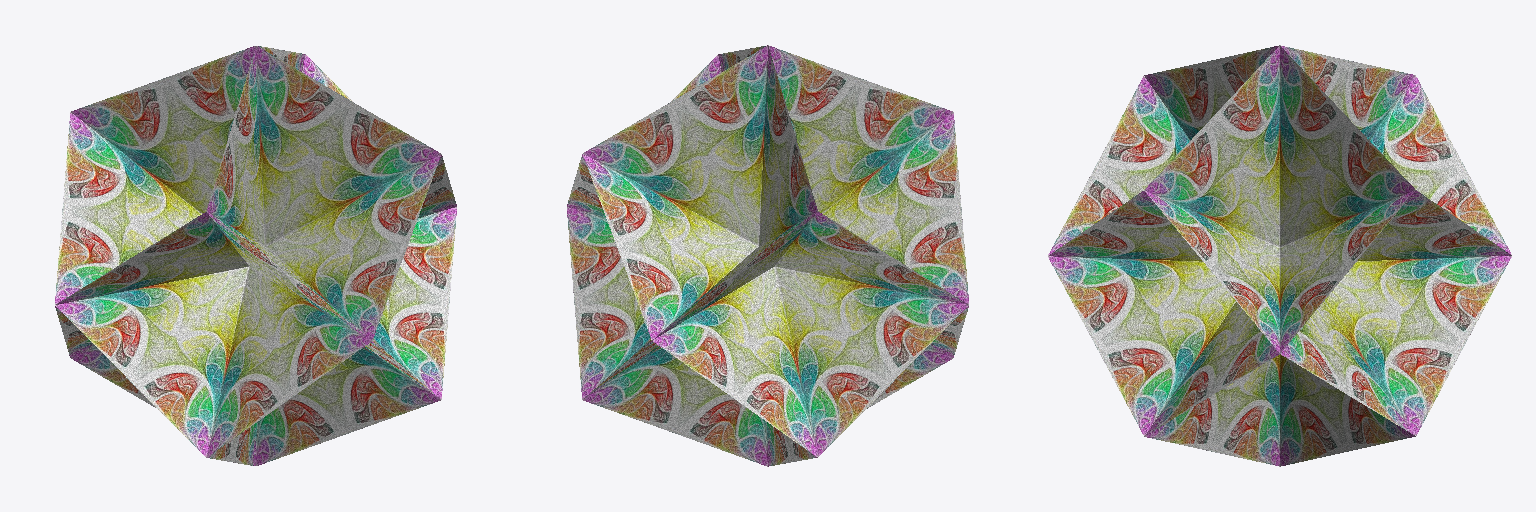
3 renders of one model, left to right at view 1: azimuth 30°, elevation 25°; view 2: azimuth 150°, elevation 25°; view 3: azimuth 270°, elevation 25°, orthographic.
Bounding box in the file's own units: 2.16 × 2.16 × 2.16.
Materials: 1 (1 with a texture image).